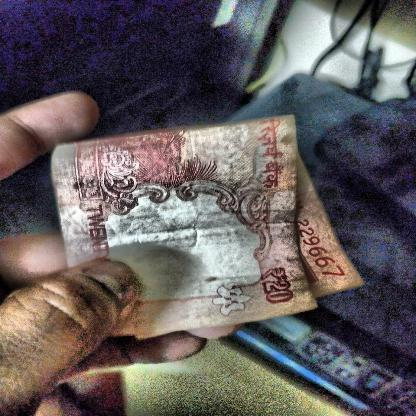Rs20: (255, 266, 301, 308)
